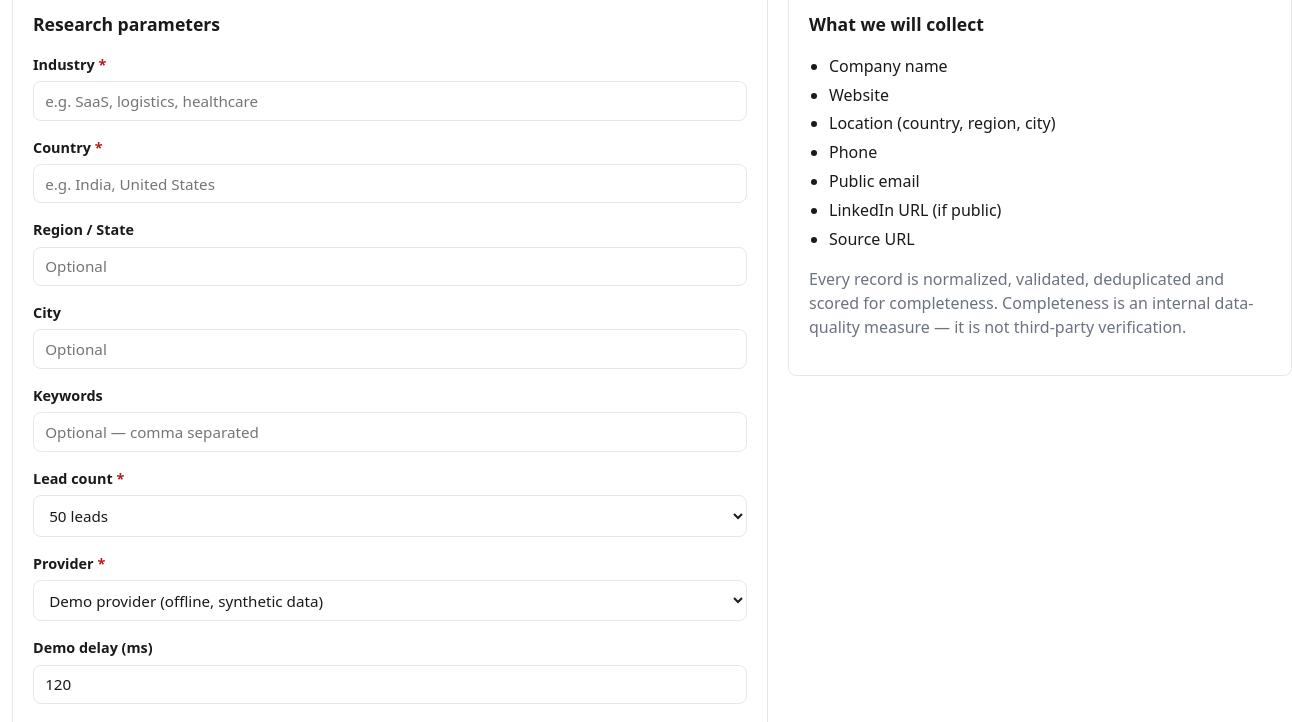
it: NewResearch › rejects an out-of-range demo delay without submitting
Type "SaaS" into the field labelled "Industry *" at (390, 101), box [33, 81, 747, 121]
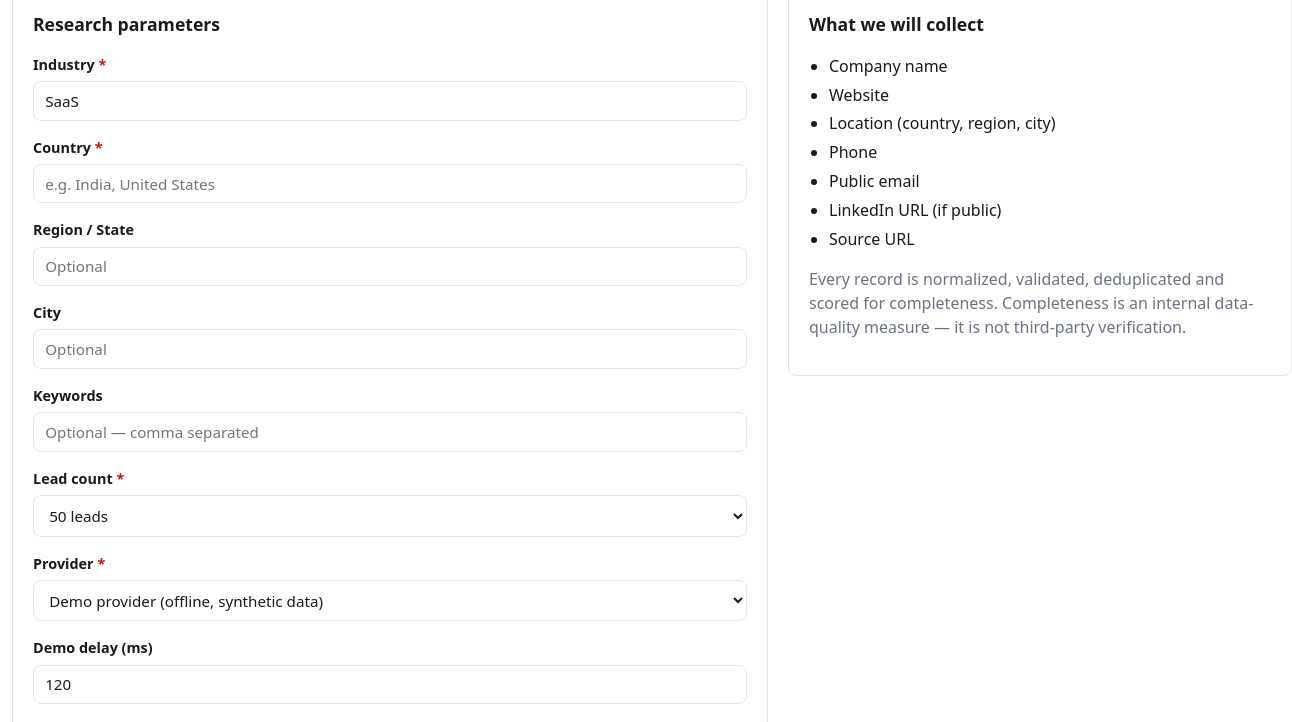
Type "India" into the field labelled "Country *" at (390, 184), box [33, 164, 747, 203]
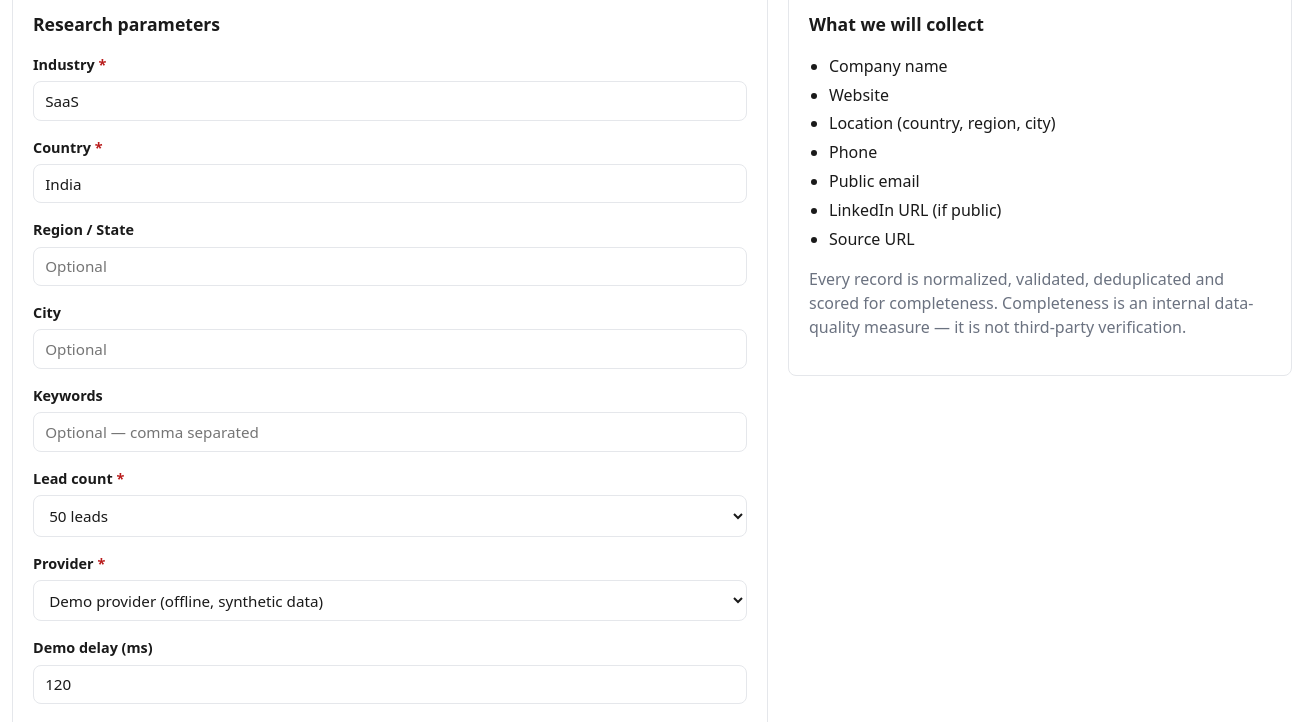
Replace the text in the number field labelled "Demo delay (ms)" with "99999" at (390, 684), box [33, 665, 747, 704]
(page scrolled)
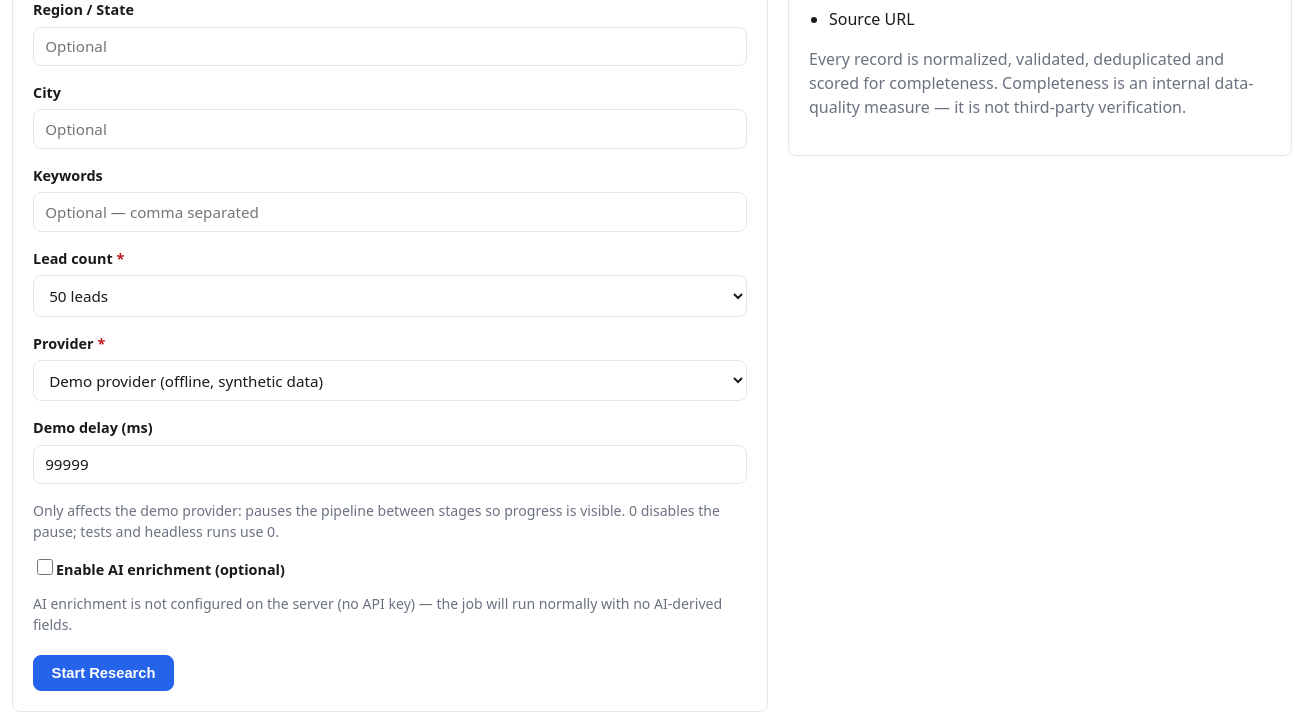
Click the button "Start Research" at (104, 673), box [33, 655, 174, 691]
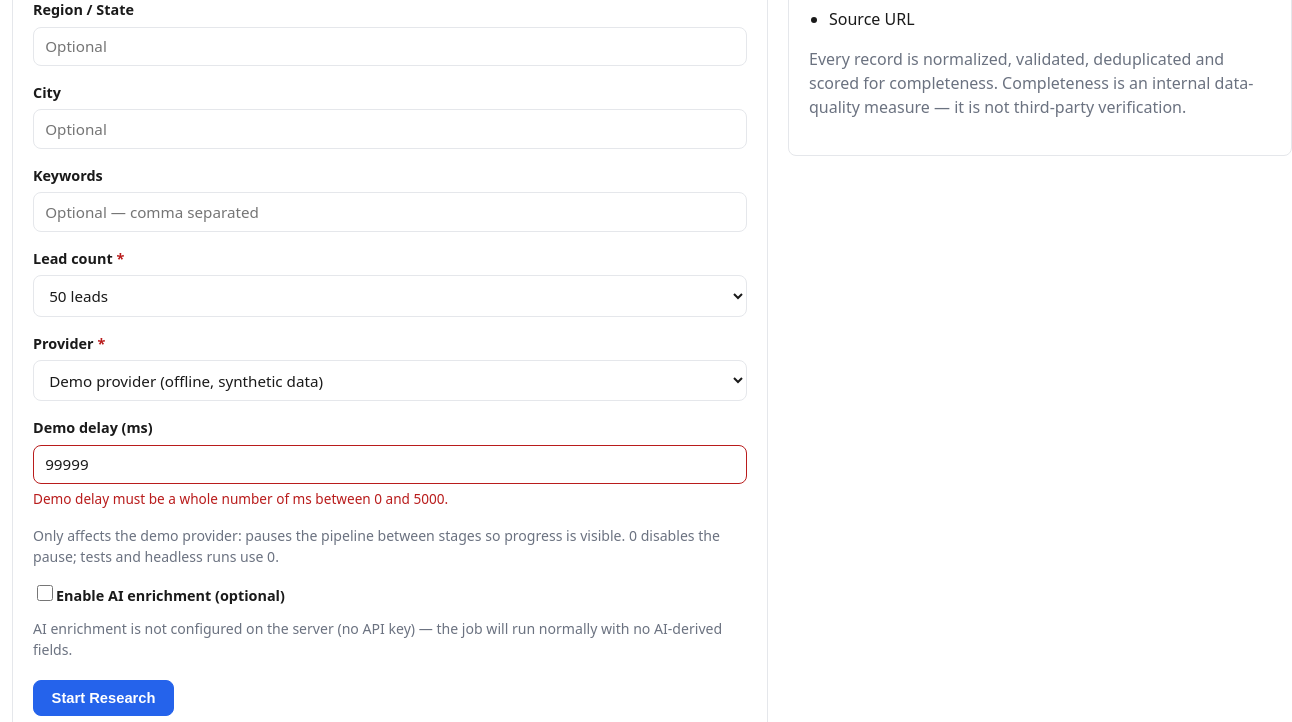
Expected: the text "Demo delay must be a whole number of ms between 0 and 5000." is shown, [33, 489, 448, 508]
